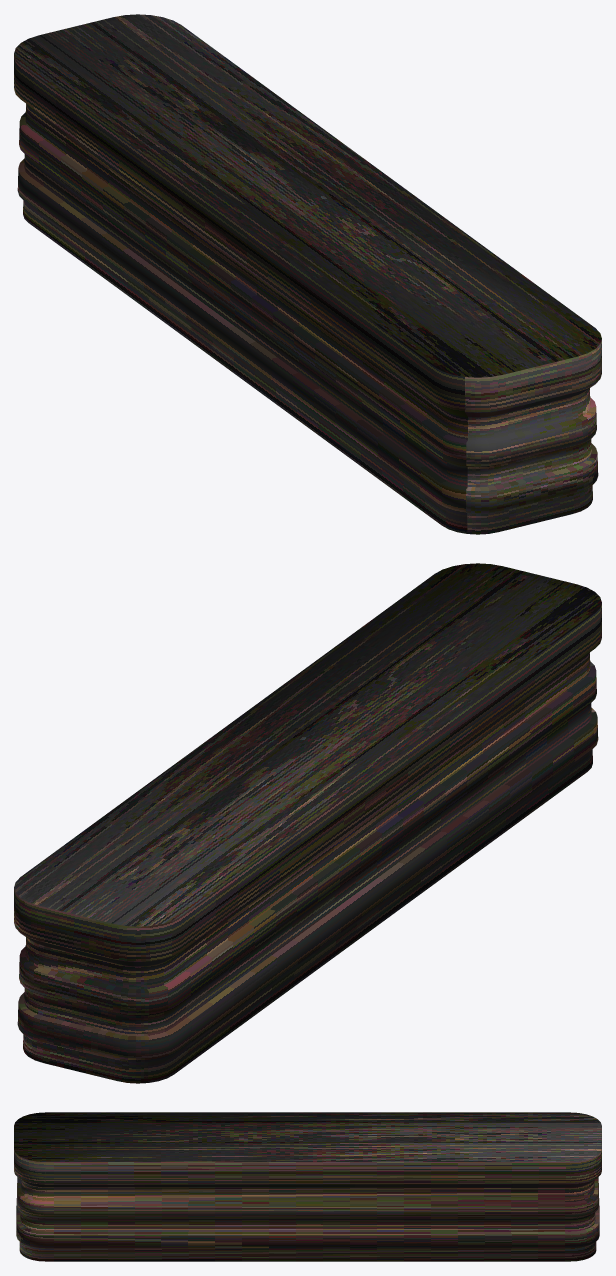
File: bar.gltf
3 renders of one model, top to bottom at view 1: azimuth 30°, elevation 25°; view 2: azimuth 150°, elevation 25°; view 3: azimuth 270°, elevation 25°, orthographic. The views are drawn at different scales.
Visible parts, largest first — view 1: Cube; view 2: Cube; view 3: Cube.
Part boxes in pixels (left/top/right/bottom): Cube: left=14, top=14, right=601, bottom=534; Cube: left=14, top=563, right=601, bottom=1083; Cube: left=14, top=1112, right=601, bottom=1261.
Size of the model in its own units: 2 by 1.91 by 10.
1 material, 1 textured.
